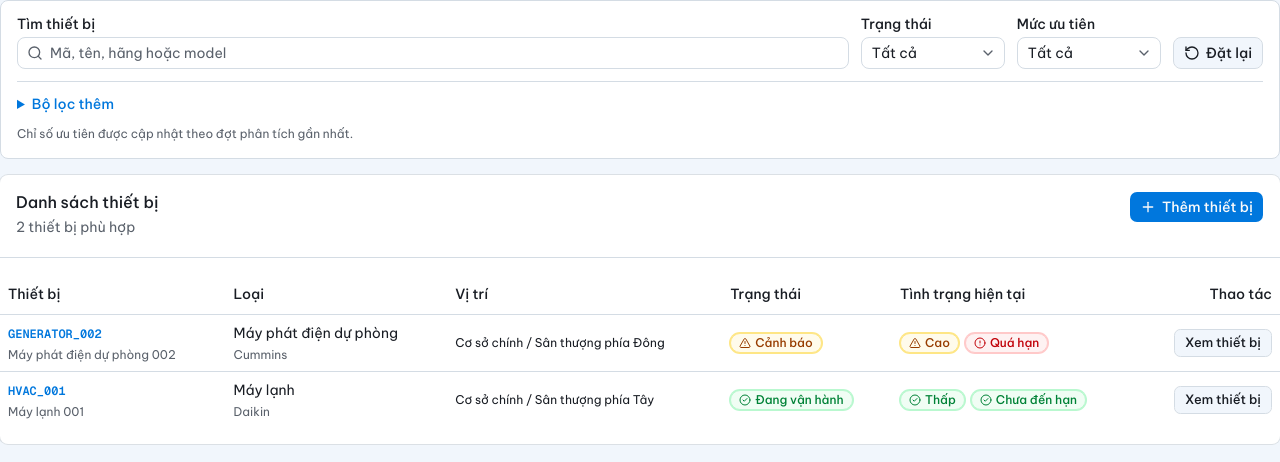
live API screens › renders and filters the live asset list
This screenshot has width=1280, height=462.
Type "HVAC_001" into the field labelled "Tìm thiết bị" at [433, 53], box [17,37,849,69]
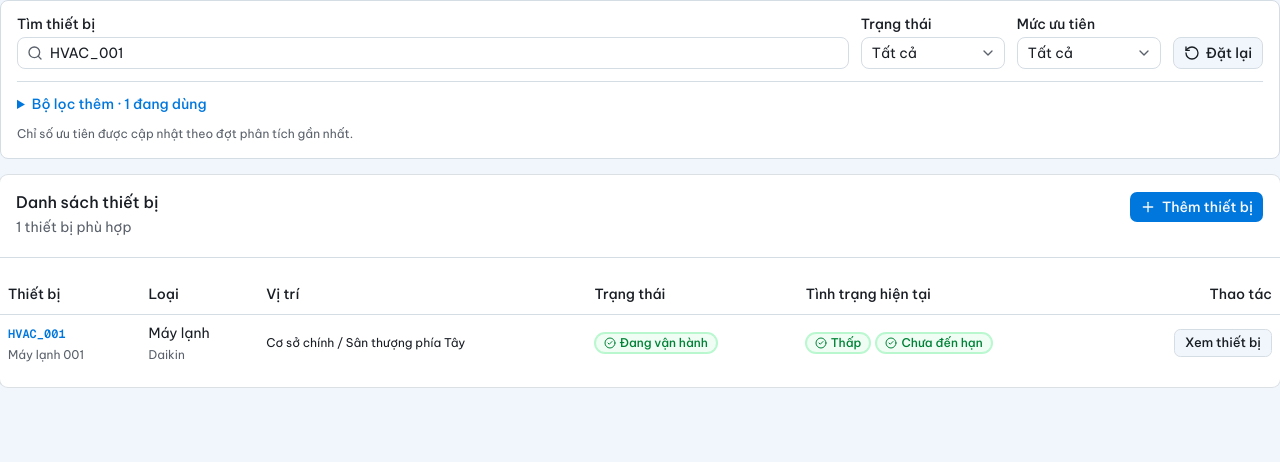
Now the text "Máy phát điện dự phòng 002" is gone
